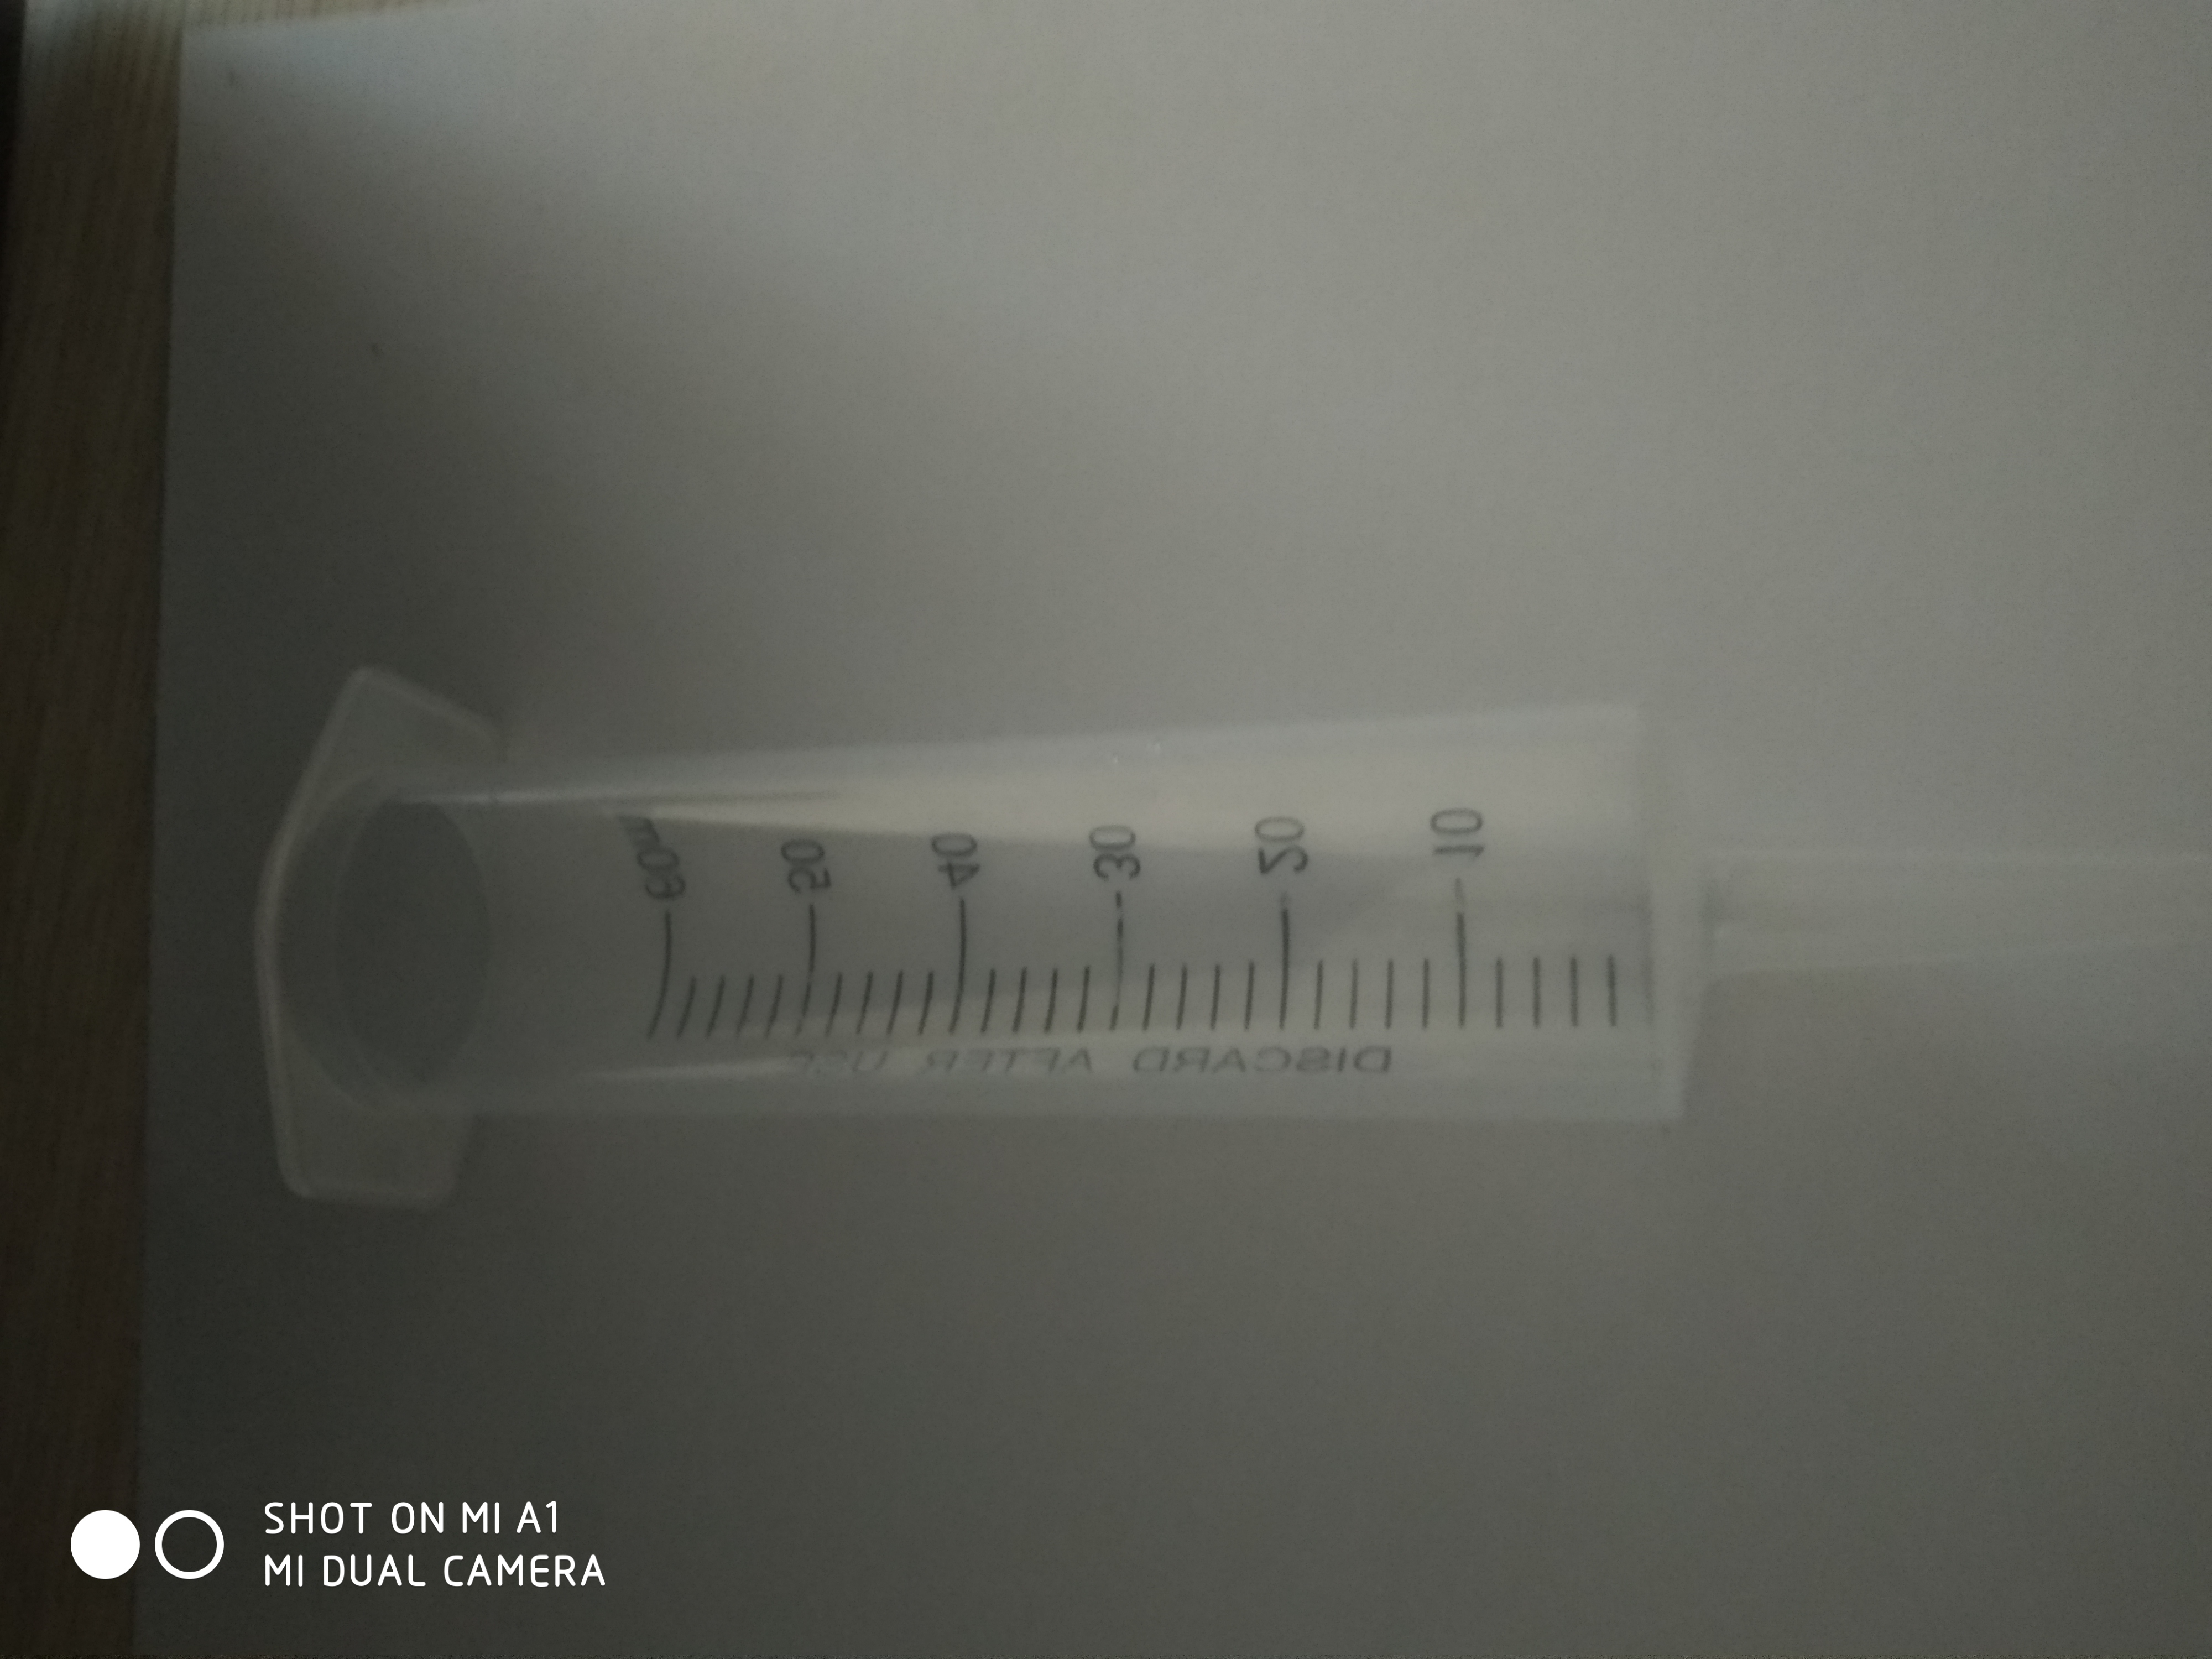syringe: (244, 662, 2212, 1222)
